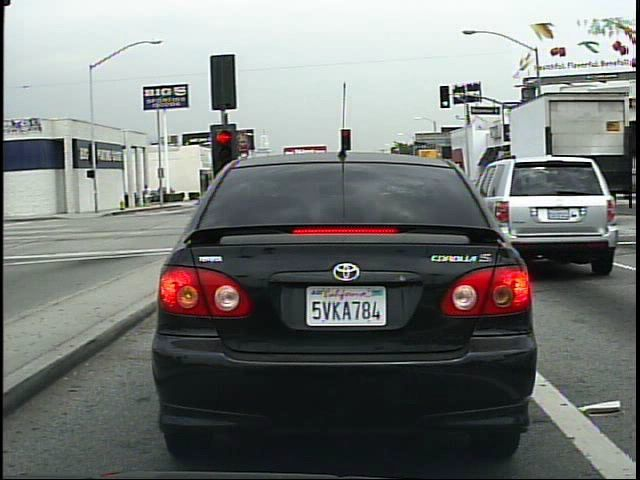person: (517, 169, 531, 202), (143, 182, 155, 210)
